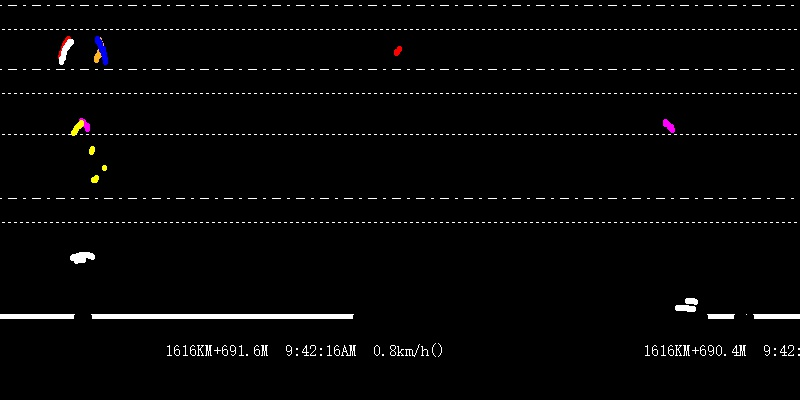face_down: (391, 25, 403, 56)
